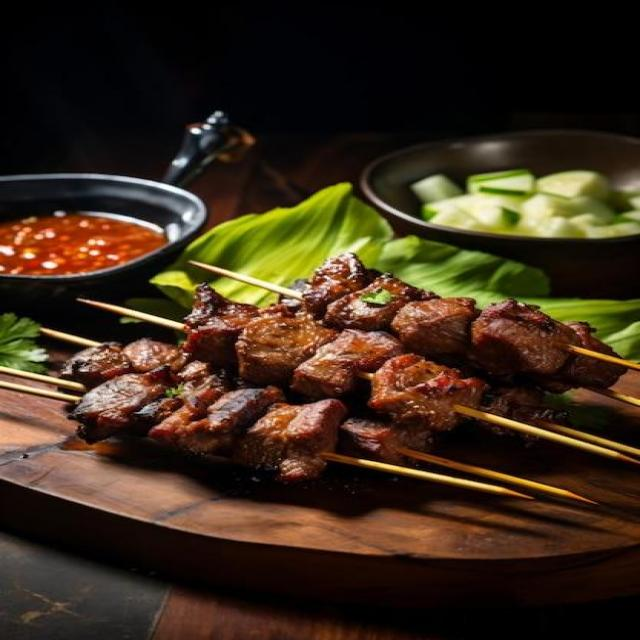Sate: (65, 263, 622, 548)
